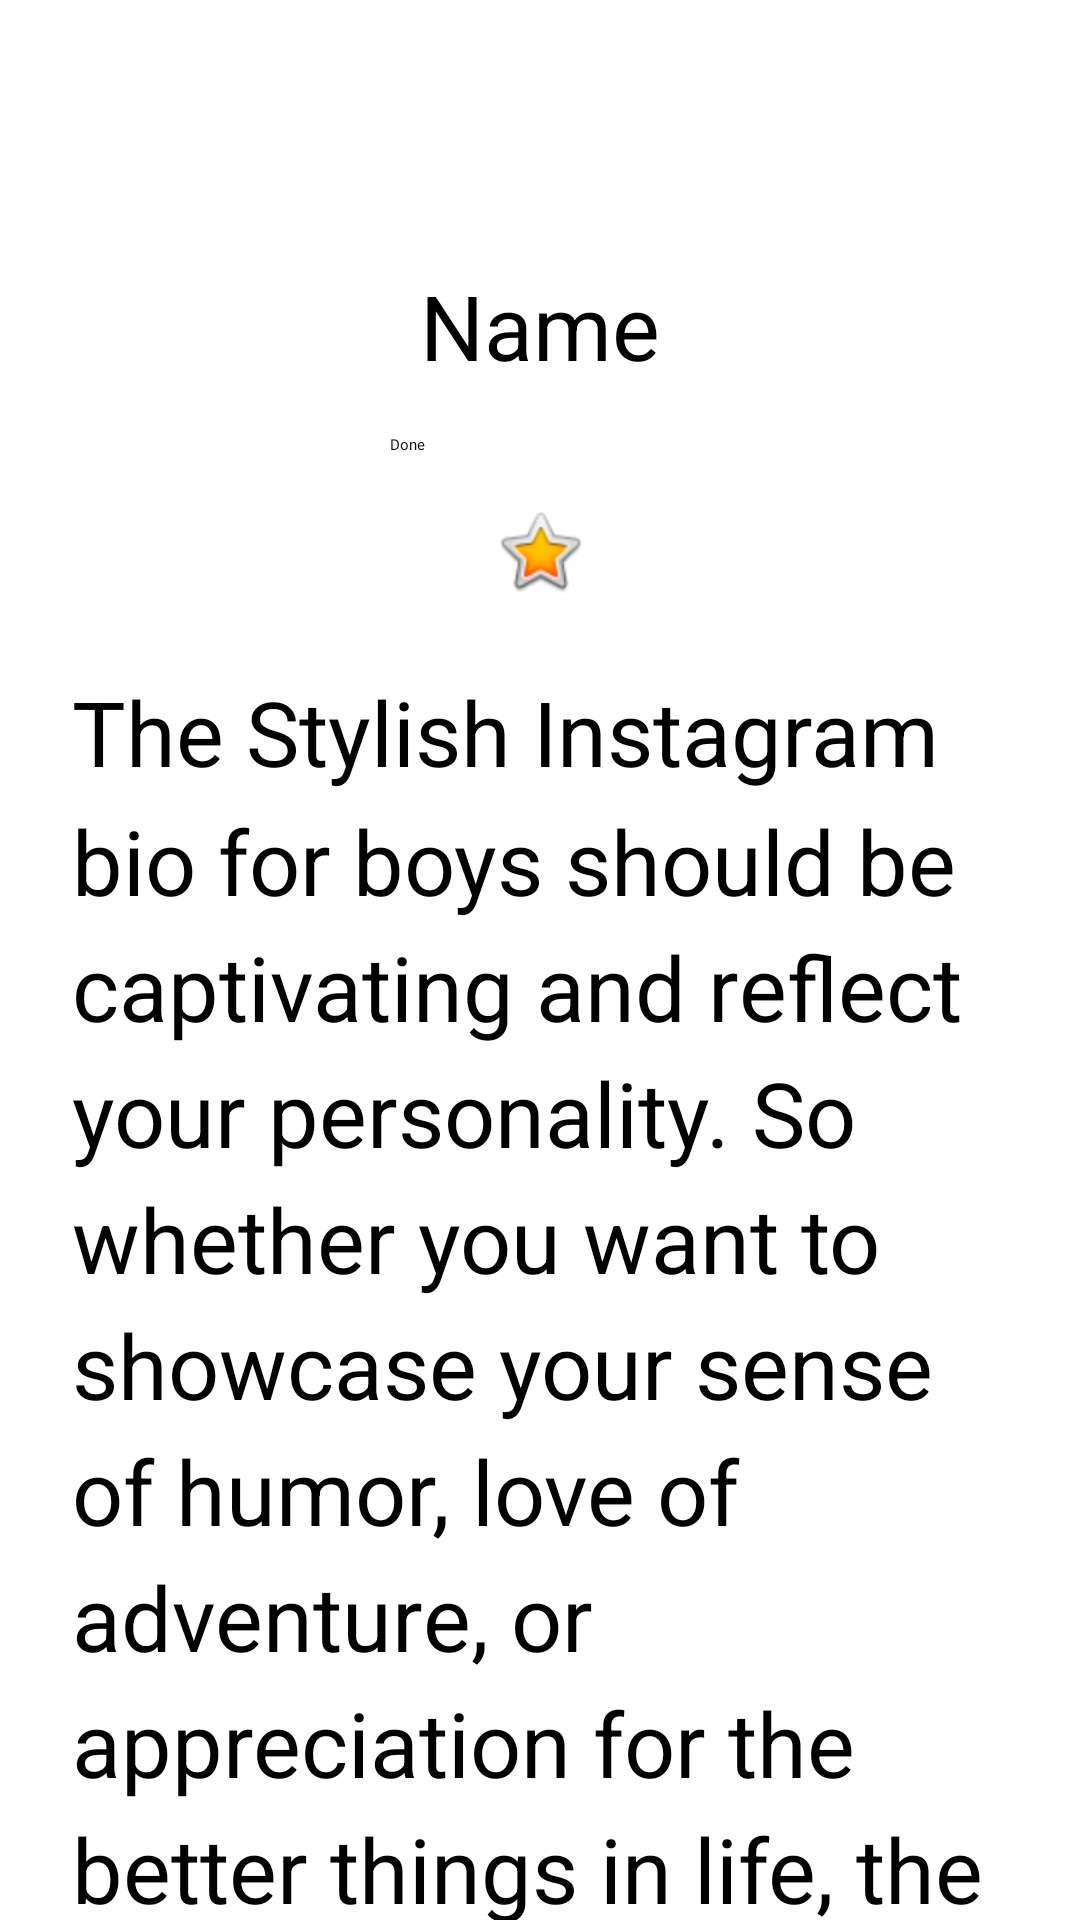

Icons on this 1080w x 1920h Android screen, each with the point to tap as (x=x, y=y):
Yellow Stars: (x=541, y=552)
